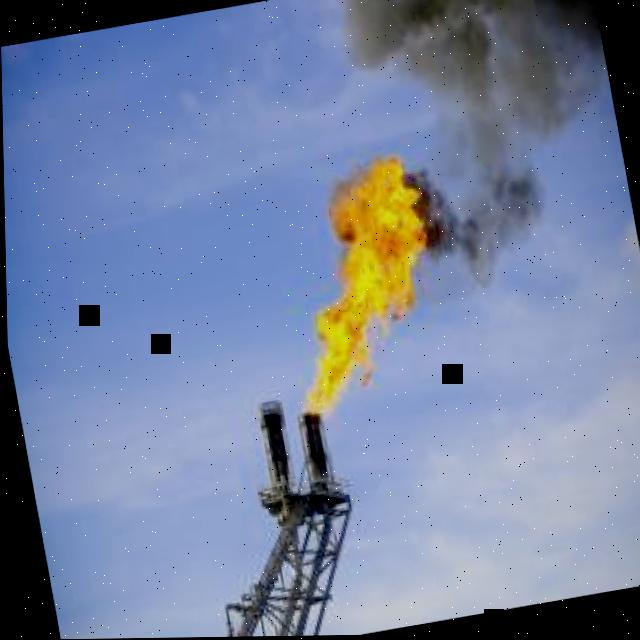fire: (298, 158, 429, 418)
smoke: (335, 0, 604, 294)
